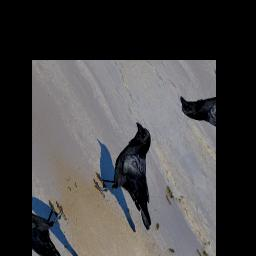Crow: (77, 119, 191, 243)
